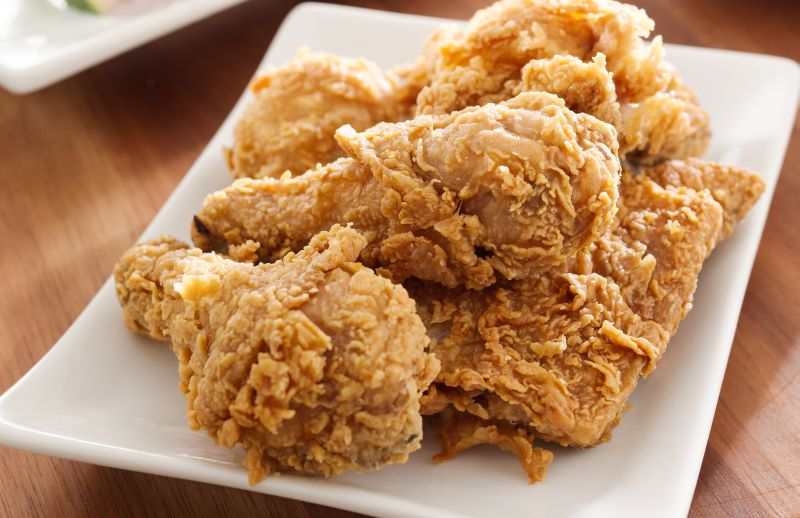Ayam: (87, 227, 422, 470), (175, 114, 610, 268)
